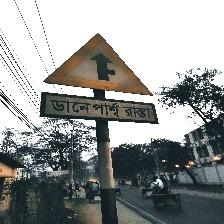Side-road-right: (41, 32, 156, 126)
